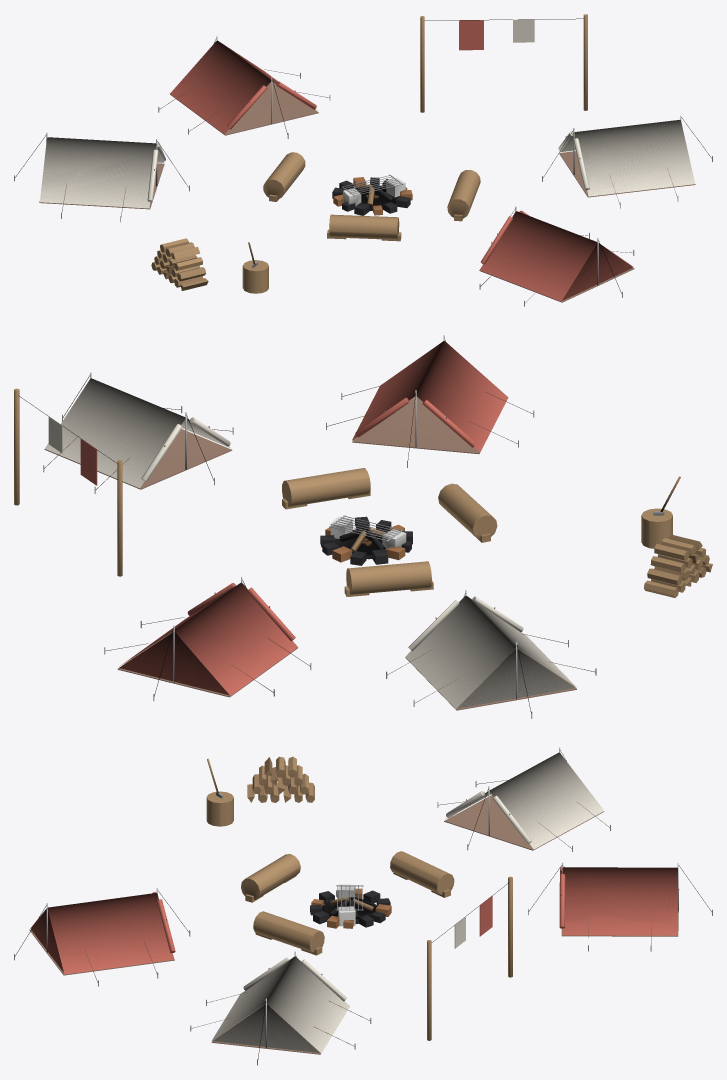
Rendered from camp.glb.
3 renders of one model, top to bottom at view 1: azimuth 30°, elevation 25°; view 2: azimuth 150°, elevation 25°; view 3: azimuth 270°, elevation 25°, orthographic. The views are drawn at different scales.
Visible parts, largest first — view 1: PART; view 2: PART; view 3: PART.
Boxes of the visible parts, <box> form: PART: <box>14,14,712,306</box>; PART: <box>14,335,712,718</box>; PART: <box>14,747,712,1065</box>.
Bounding box in the file's own units: 10.62 × 1.8 × 11.2.
